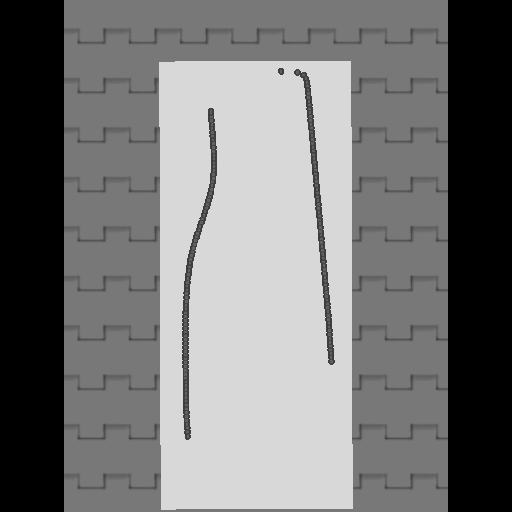Defect: (181, 363, 339, 494)
